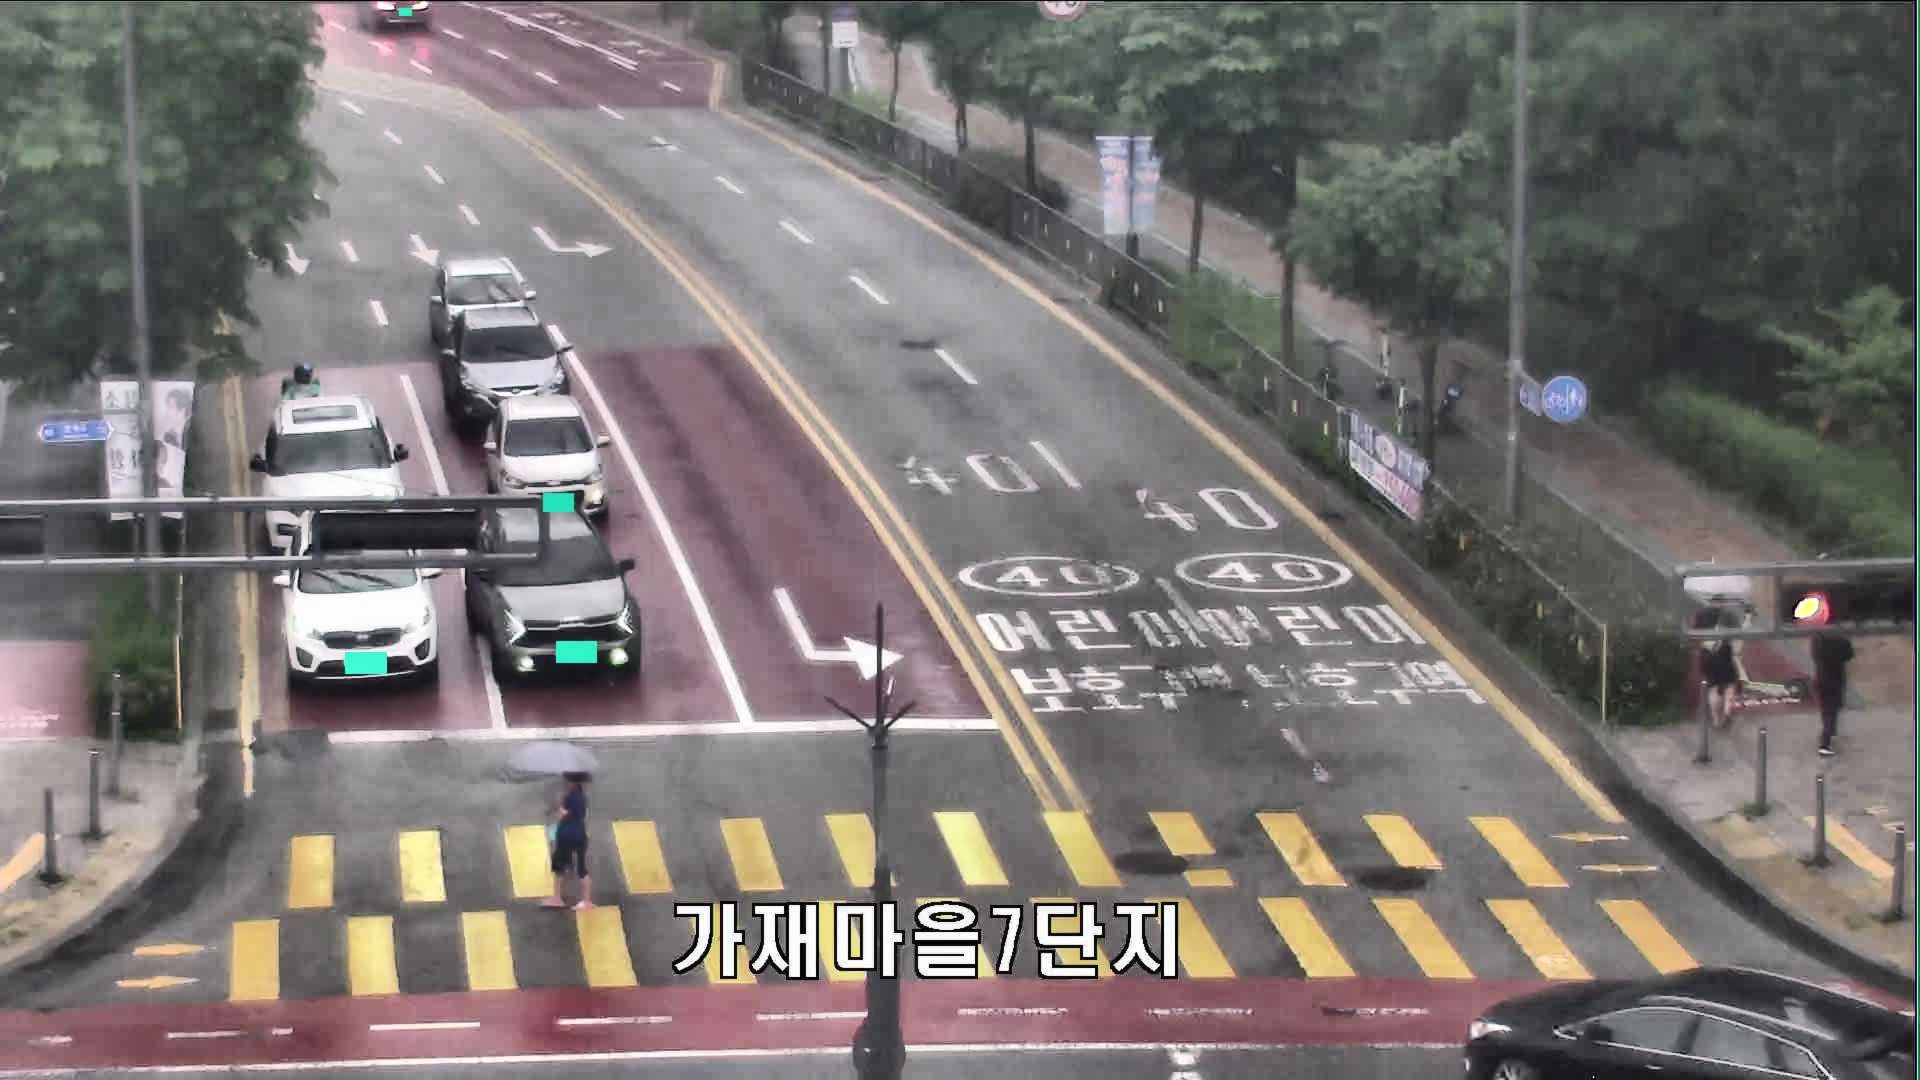sidewalk: (1808, 607, 1855, 760)
um_crosswalk: (512, 735, 597, 913)
um_sidewalk: (1687, 572, 1749, 732)
